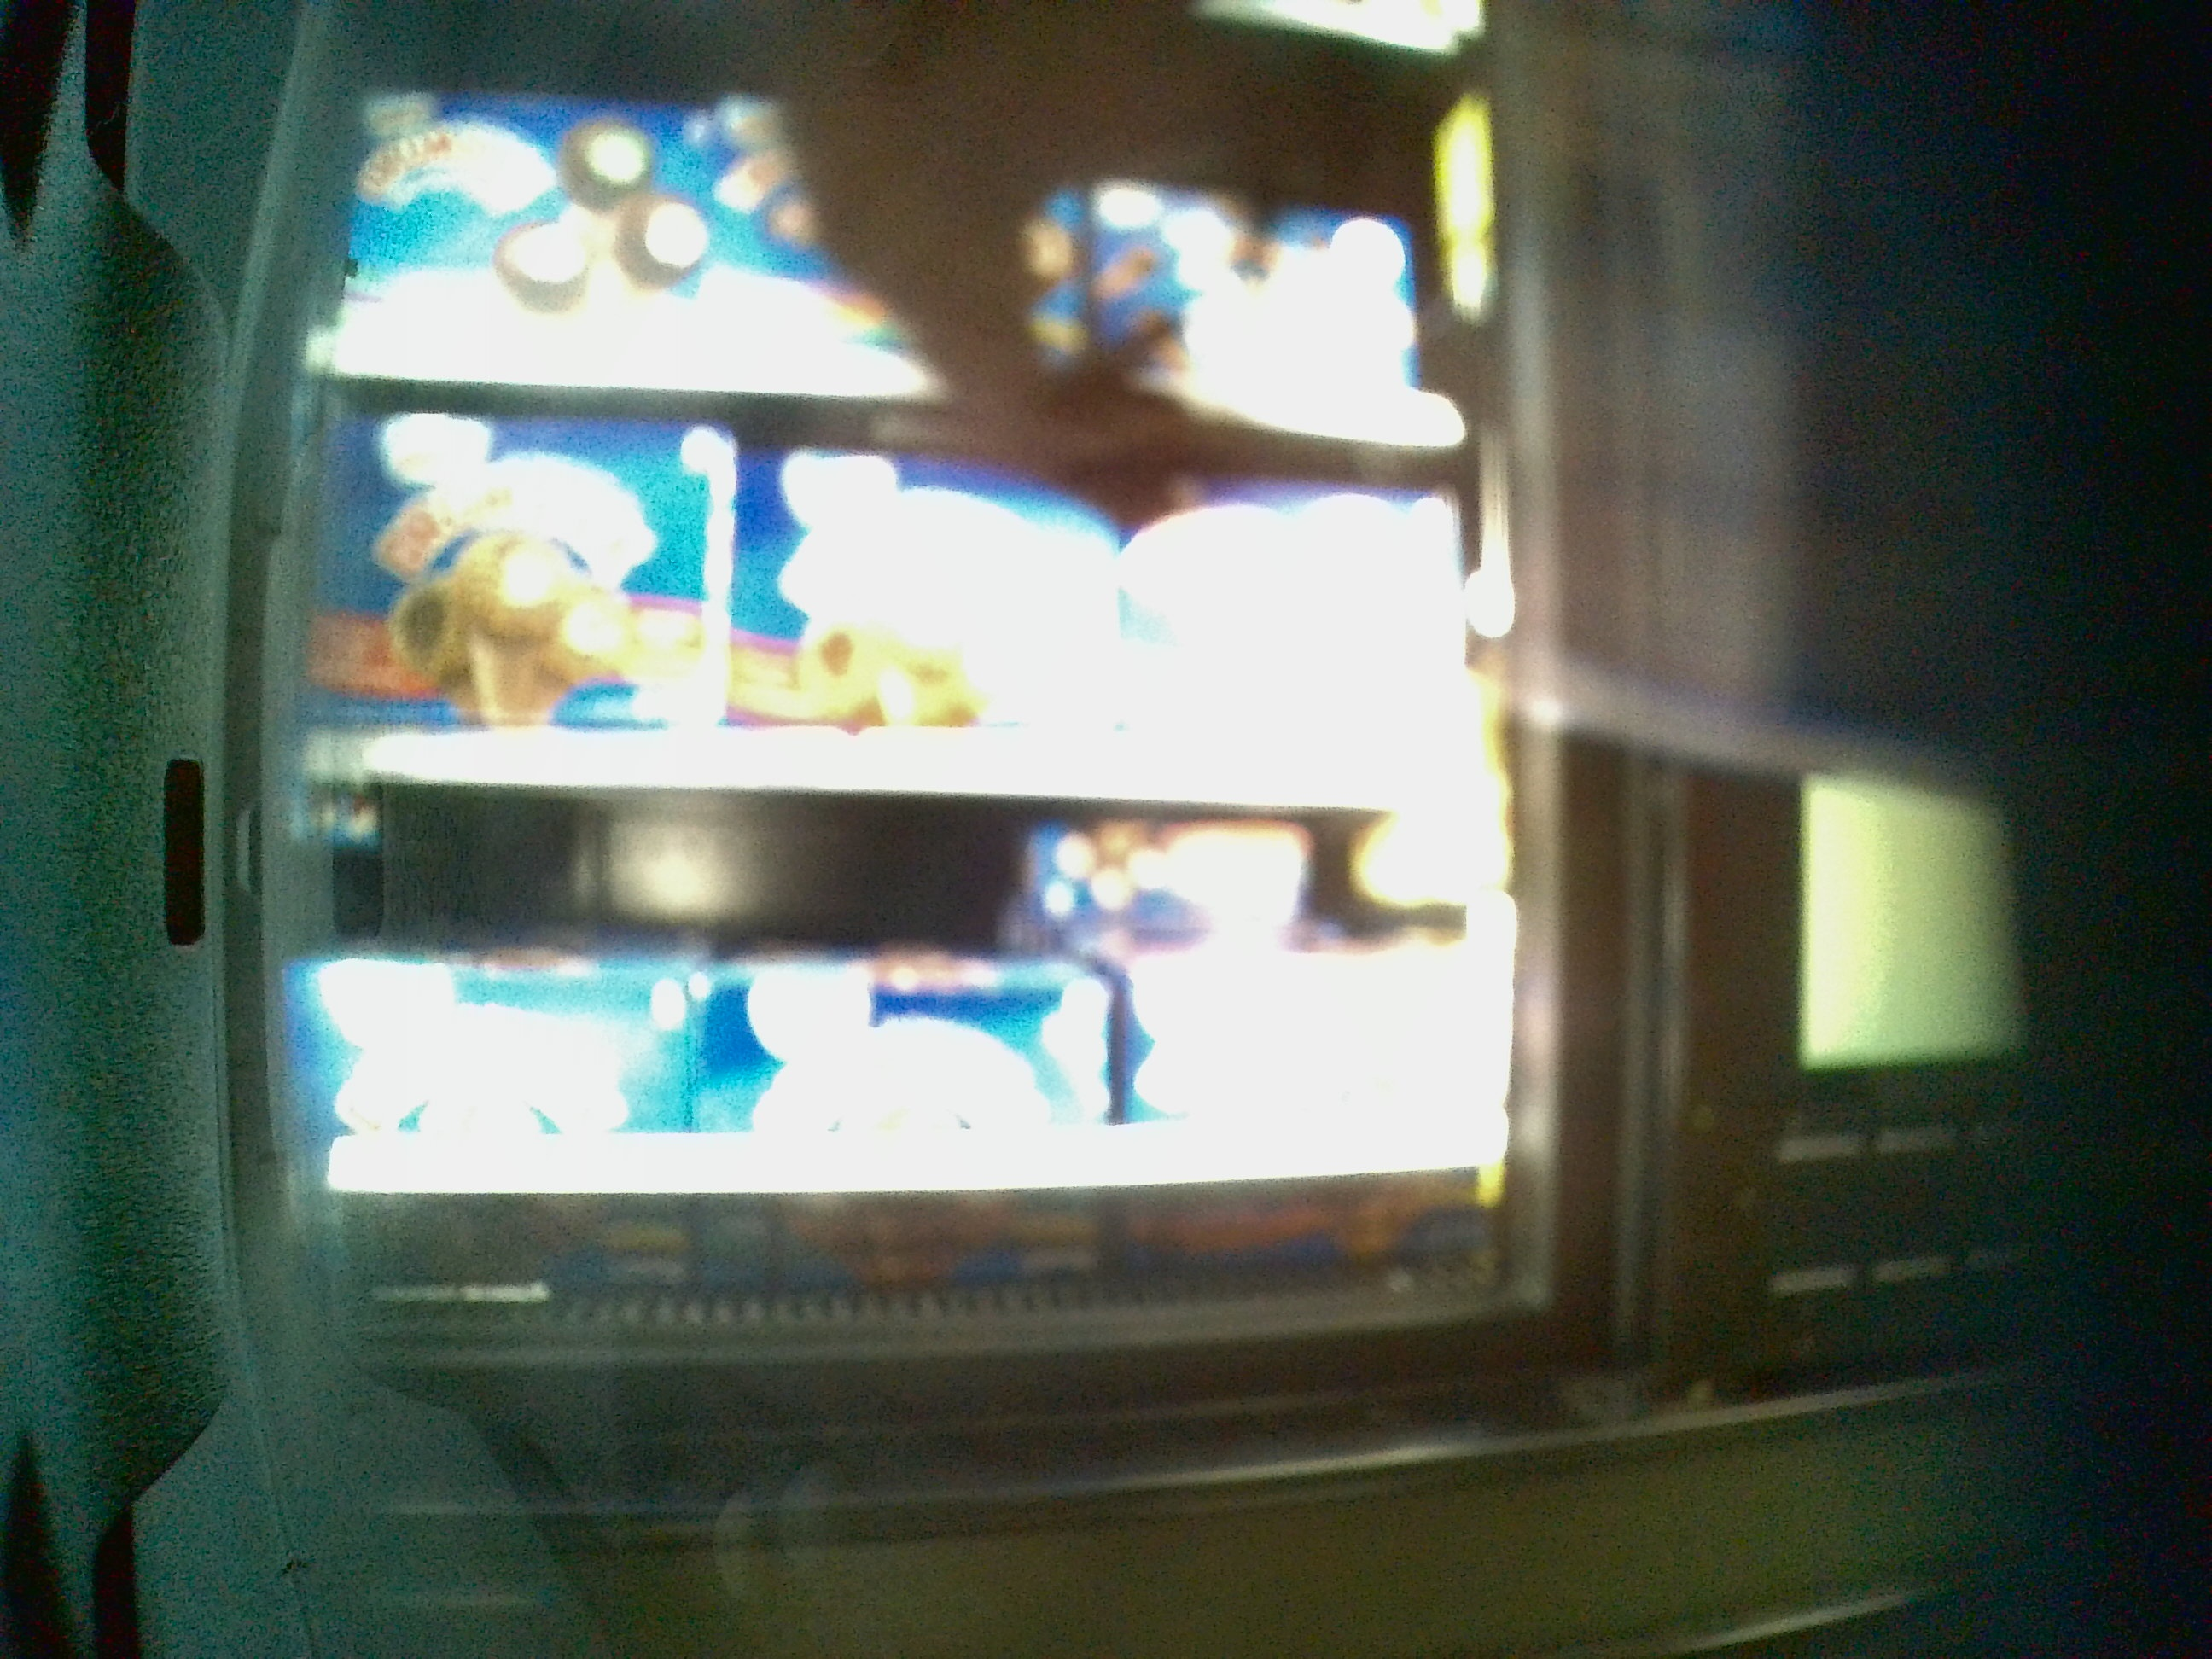shelf: (312, 805, 1475, 1316)
